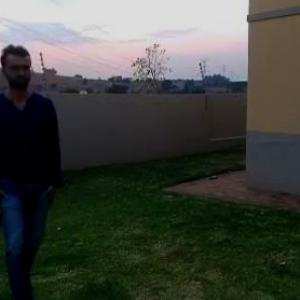follow: (1, 38, 75, 299)
